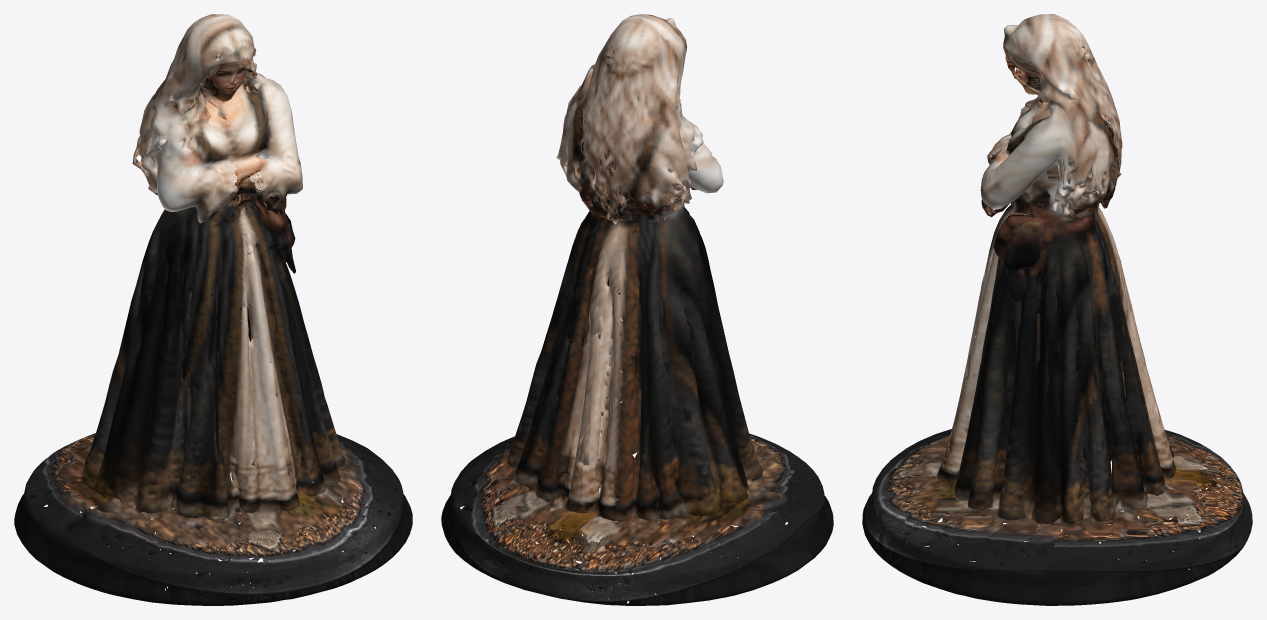
The model's file is elara.glb.
3 views of the same model, side by side, from view 1: azimuth 30°, elevation 25°; view 2: azimuth 150°, elevation 25°; view 3: azimuth 270°, elevation 25° (orthographic).
Visible parts, largest first — view 1: tmposvopeh6.ply; view 2: tmposvopeh6.ply; view 3: tmposvopeh6.ply.
Part boxes in pixels (bbox=[...]): tmposvopeh6.ply: bbox=[14, 14, 412, 605]; tmposvopeh6.ply: bbox=[441, 14, 833, 605]; tmposvopeh6.ply: bbox=[862, 14, 1252, 605].
Size of the model in its own units: 1.39 by 1.96 by 1.37.
5 materials, 5 textured.
